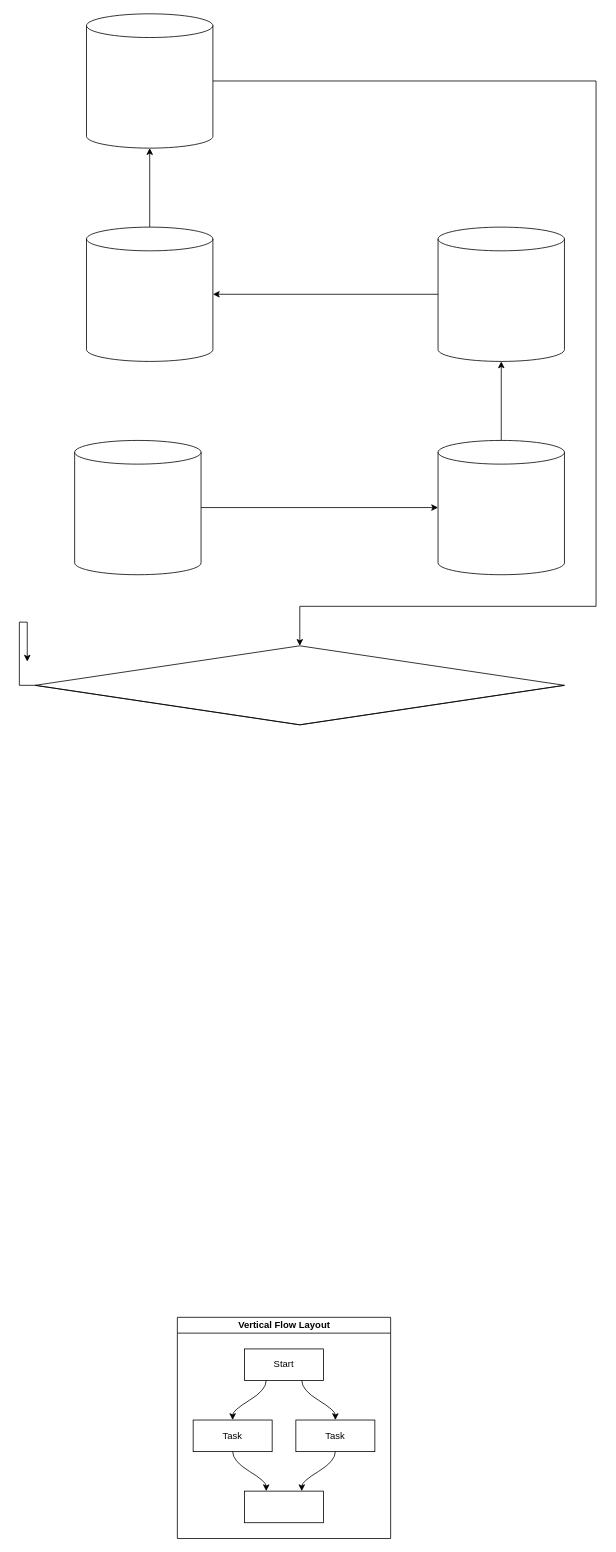
The diagram is 616 pixels wide and 1552 high, and some of its shapes have lost their labels. The shapes that lost their labels are listed below. From the top down, each one's centre as x and y in pixels, then its label:
At [299,685]: "Data Layer It reads asynchronously the BufReader provided and".
At [284,1506]: "End".
